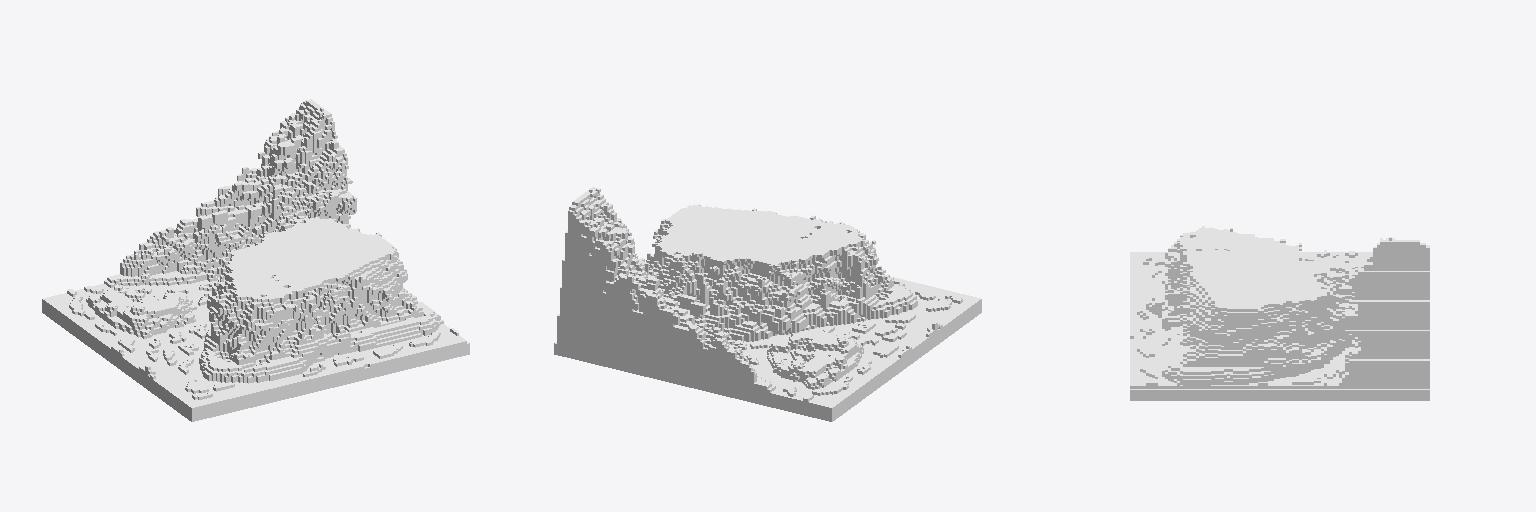
The model's file is Lava_stuff-35.obj.
The picture shows the model from 3 angles: view 1: azimuth 30°, elevation 25°; view 2: azimuth 150°, elevation 25°; view 3: azimuth 270°, elevation 25°; orthographic projection.
Visible parts, largest first — view 1: object 1; view 2: object 1; view 3: object 1.
Boxes of the visible parts, x1,y1,x2,y2 form: object 1: [42, 99, 469, 421]; object 1: [554, 187, 981, 421]; object 1: [1130, 226, 1429, 400].
Size of the model in its own units: 20.6 by 11 by 19.2.